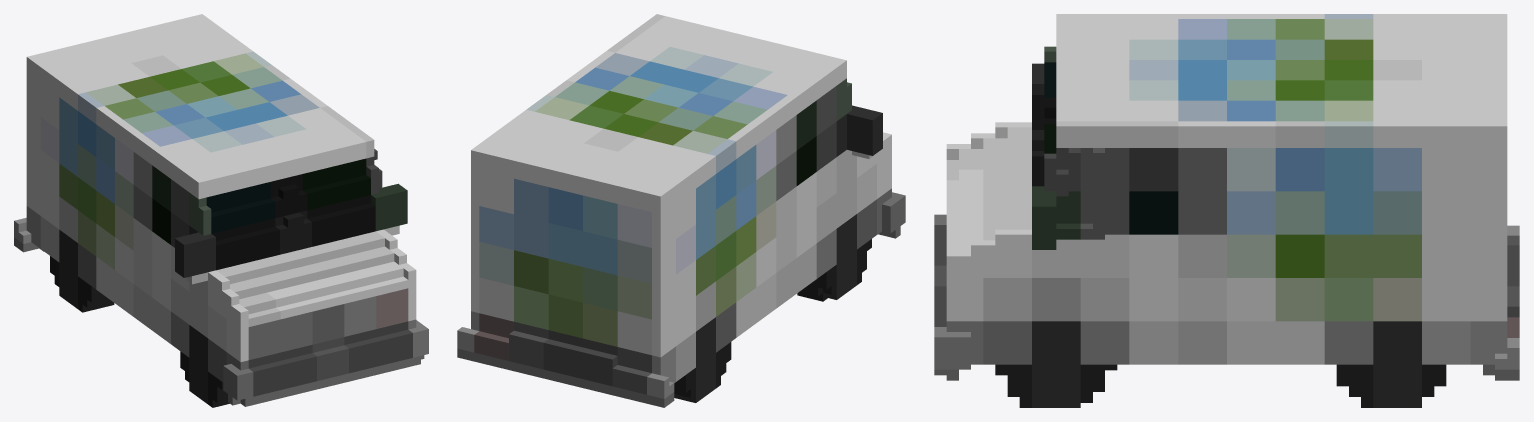
The model's file is CesiumMilkTruck_1024B_vox.glb.
3 views of the same model, side by side, from view 1: azimuth 30°, elevation 25°; view 2: azimuth 150°, elevation 25°; view 3: azimuth 270°, elevation 25° (orthographic). The views are drawn at different scales.
Size of the model in its own units: 1.16 by 1.06 by 2.
